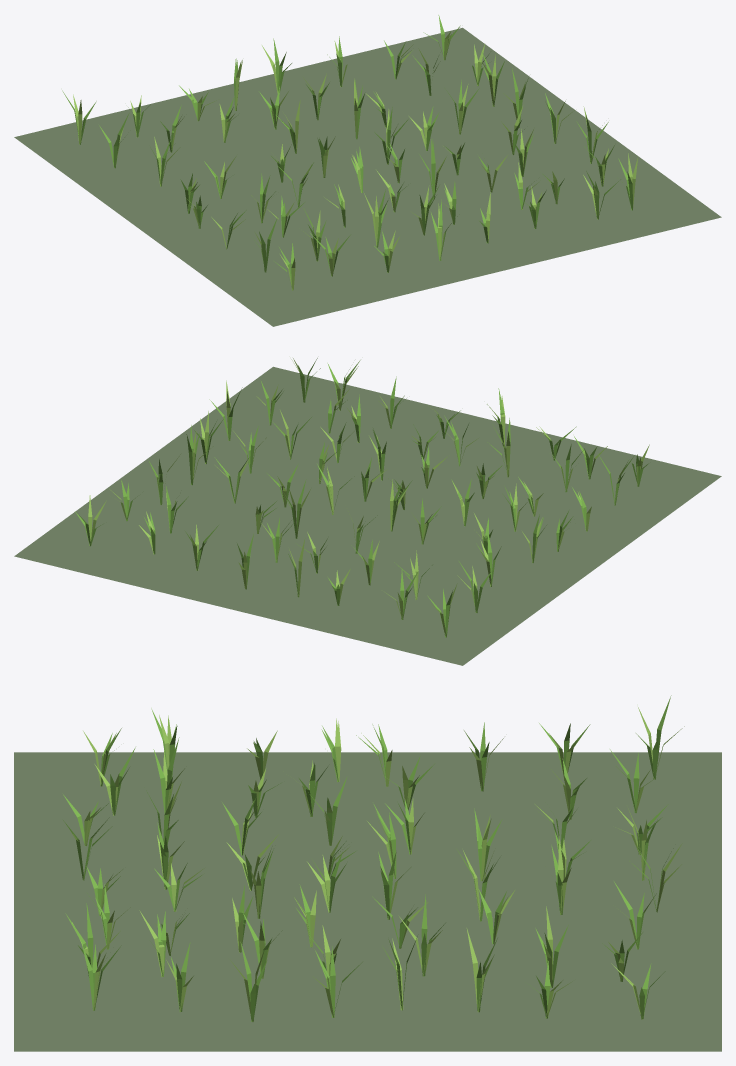
The model's file is Paddy_Rice_Dense.glb.
3 renders of one model, top to bottom at view 1: azimuth 30°, elevation 25°; view 2: azimuth 150°, elevation 25°; view 3: azimuth 270°, elevation 25°, orthographic. The views are drawn at different scales.
Parts seen in each view (by area): view 1: Paddy_Rice_Dense; view 2: Paddy_Rice_Dense; view 3: Paddy_Rice_Dense.
Boxes of the visible parts, box(x1,y1,x2,y2) form: Paddy_Rice_Dense: box(14, 15, 721, 326); Paddy_Rice_Dense: box(14, 358, 721, 665); Paddy_Rice_Dense: box(14, 695, 721, 1051).
Size of the model in its own units: 4 by 0.4867 by 4.
